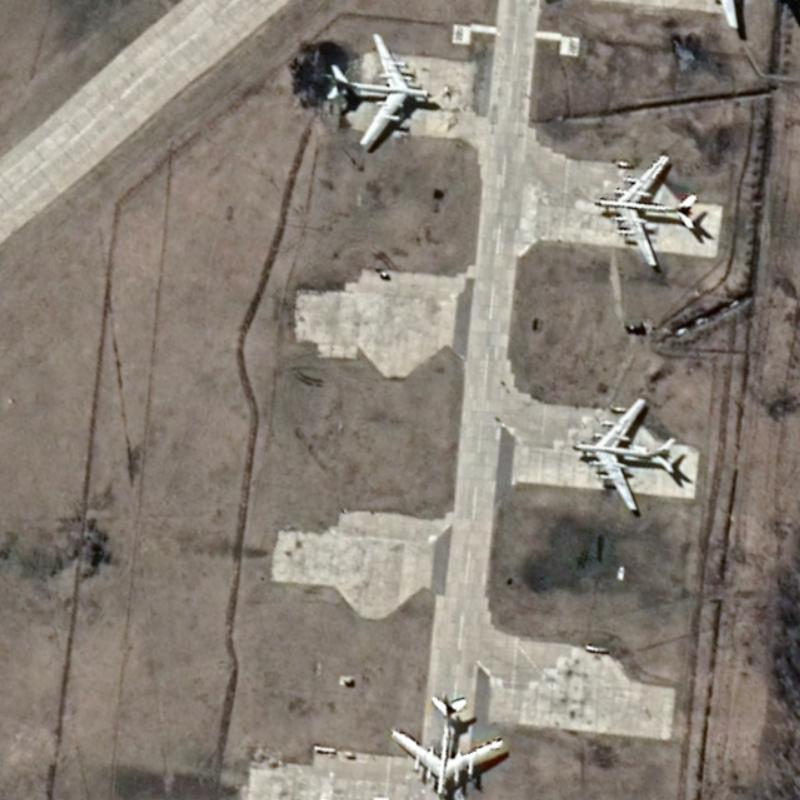A17: (324, 30, 433, 148), (589, 152, 698, 268), (569, 395, 675, 511), (388, 694, 505, 799)
